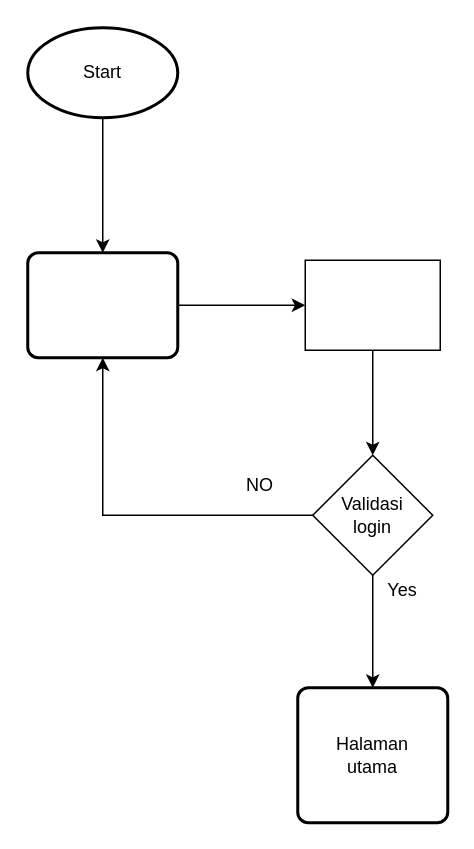
This 474x849 diagram has some shape labels left out. Each missing label, with the box of its shape:
ADMIN: (304, 259, 440, 350)
LOGIN: (26, 250, 178, 358)
